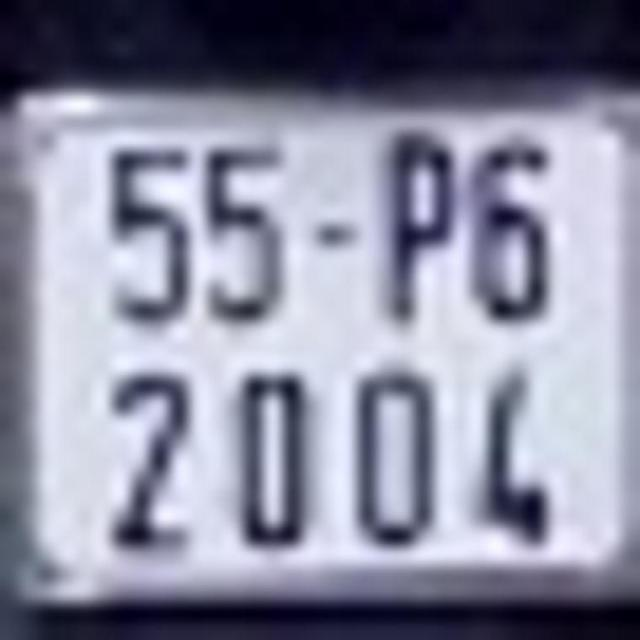0: (356, 369, 437, 546), (237, 372, 310, 548)
2: (109, 372, 187, 550)
4: (484, 367, 550, 547)
5: (205, 144, 286, 327), (110, 144, 190, 323)
6: (468, 142, 549, 318)
P: (392, 130, 452, 325)
